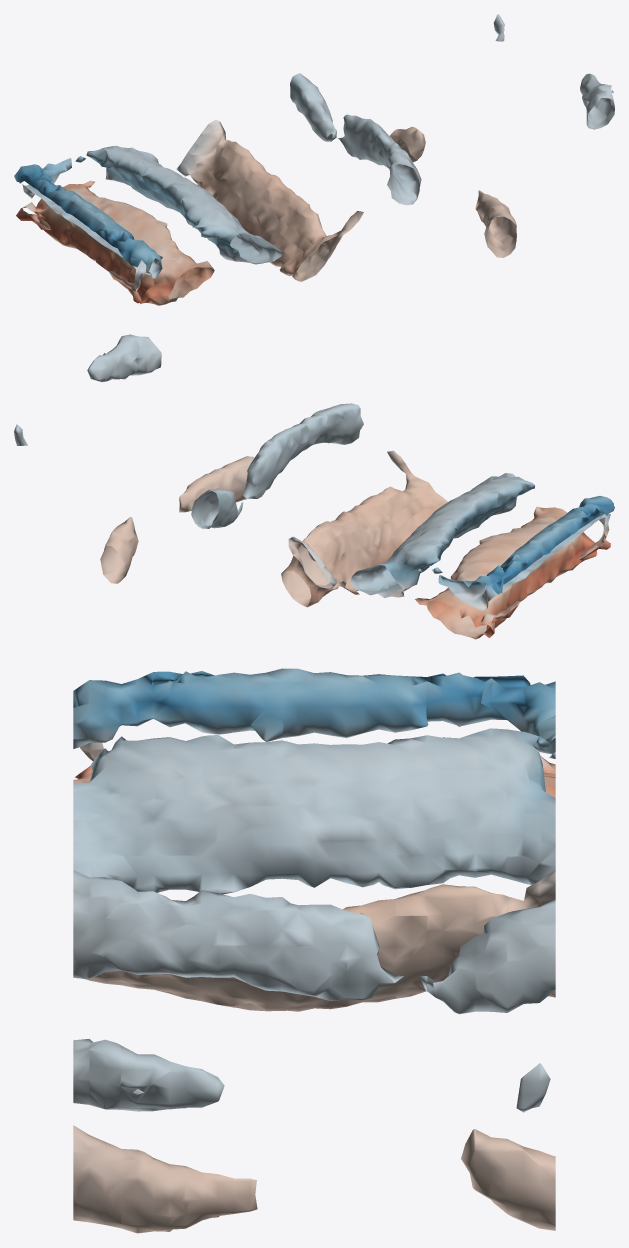
3 views of the same model, one above another, from view 1: azimuth 30°, elevation 25°; view 2: azimuth 150°, elevation 25°; view 3: azimuth 270°, elevation 25° (orthographic). The views are drawn at different scales.
Size of the model in its own units: 5.94 by 1.61 by 2.5.
